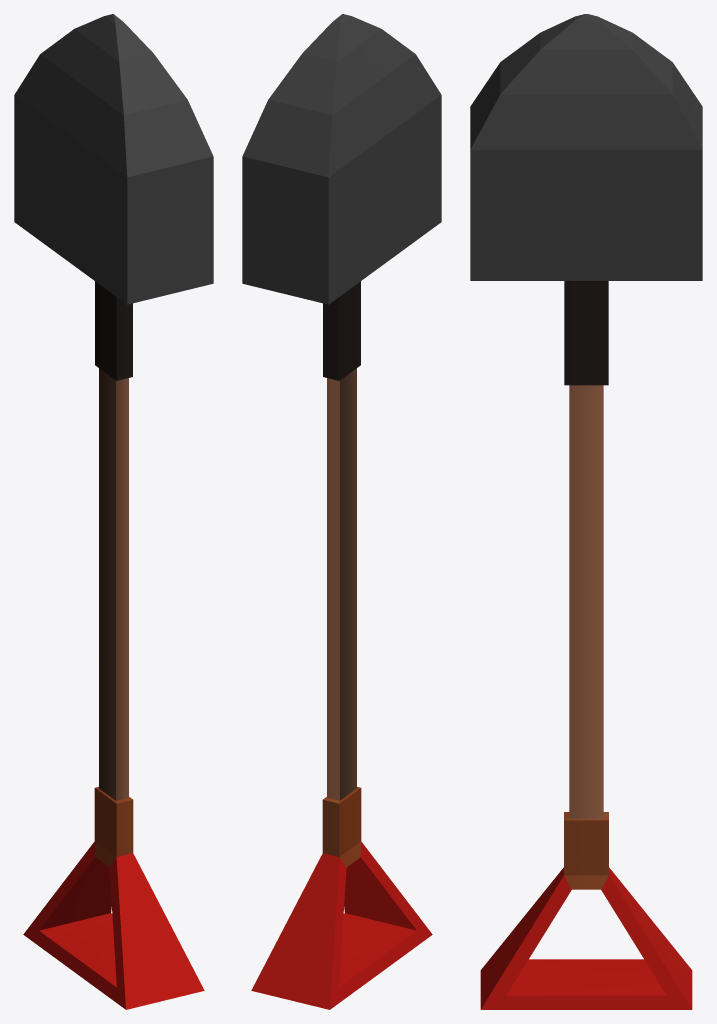
Rendered from Shovel.fbx.
The picture shows the model from 3 angles, left to right: view 1: azimuth 30°, elevation 25°; view 2: azimuth 150°, elevation 25°; view 3: azimuth 270°, elevation 25°; orthographic projection. The views are drawn at different scales.
Parts seen in each view (by area): view 1: Cube; view 2: Cube; view 3: Cube.
Part boxes in pixels (x1,y1,x2,y2): Cube: [14, 14, 213, 1009]; Cube: [242, 14, 441, 1009]; Cube: [470, 14, 702, 1009].
Bounding box in the file's own units: 37.14 × 390 × 84.14.
1 material, 1 textured.
